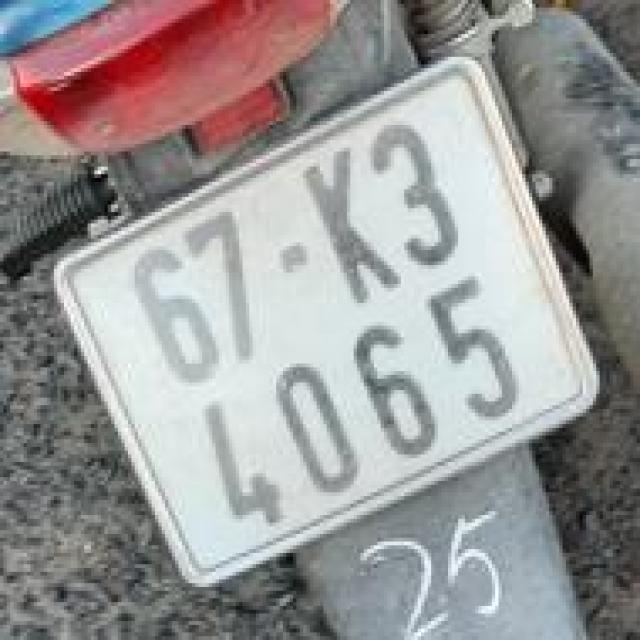0: (265, 350, 372, 507)
3: (357, 105, 472, 280)
4: (185, 379, 297, 545)
5: (419, 263, 533, 431)
6: (337, 308, 454, 472), (119, 225, 230, 395)
7: (179, 195, 281, 373)
K: (289, 135, 417, 326)
